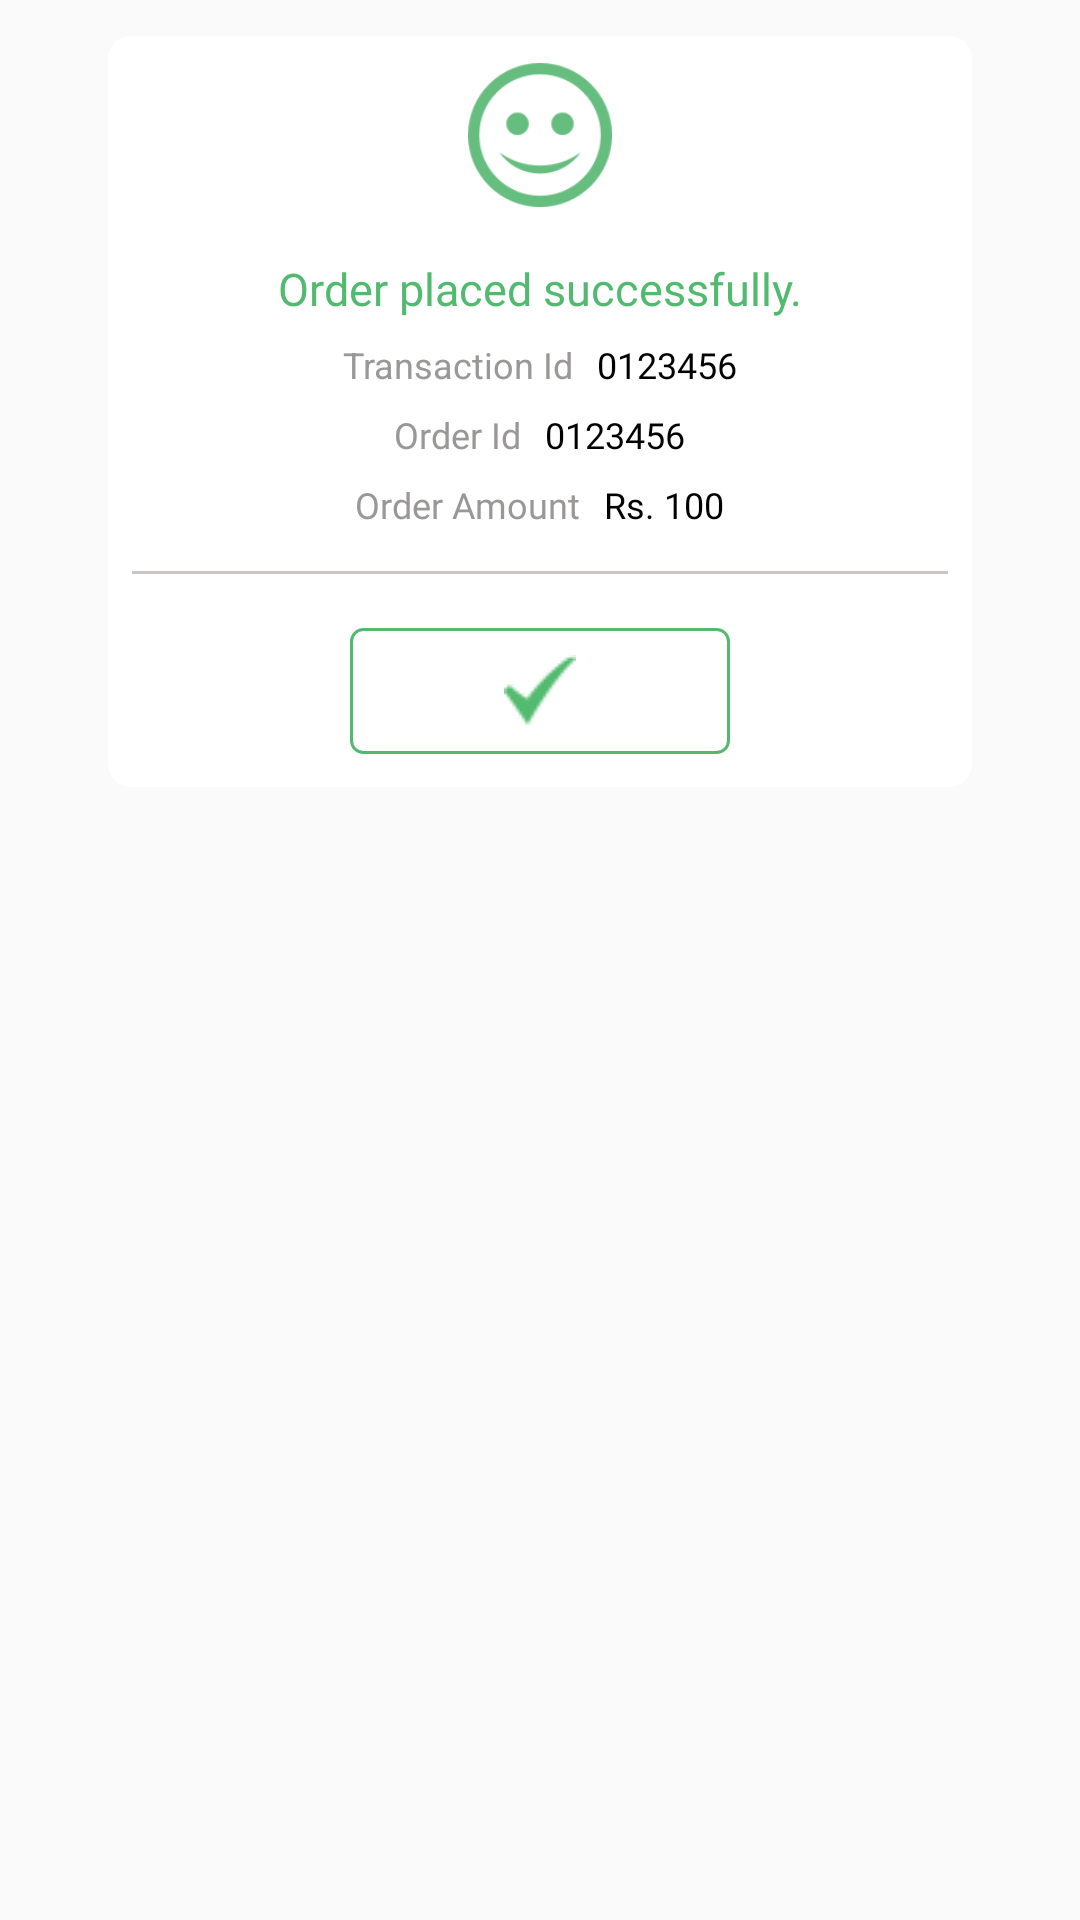

Where to tap for icons on this 1080×1920 app screen, as point (x, y):
successemo: point (540, 135)
